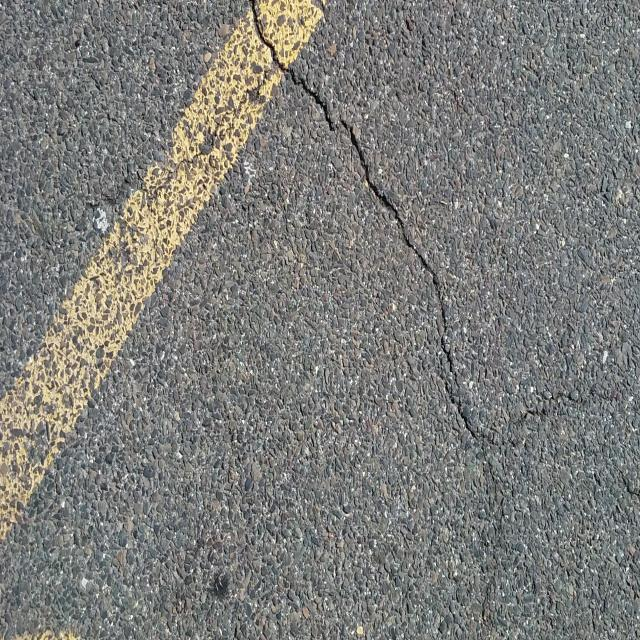Crack: (77, 0, 615, 451), (618, 473, 640, 504)
